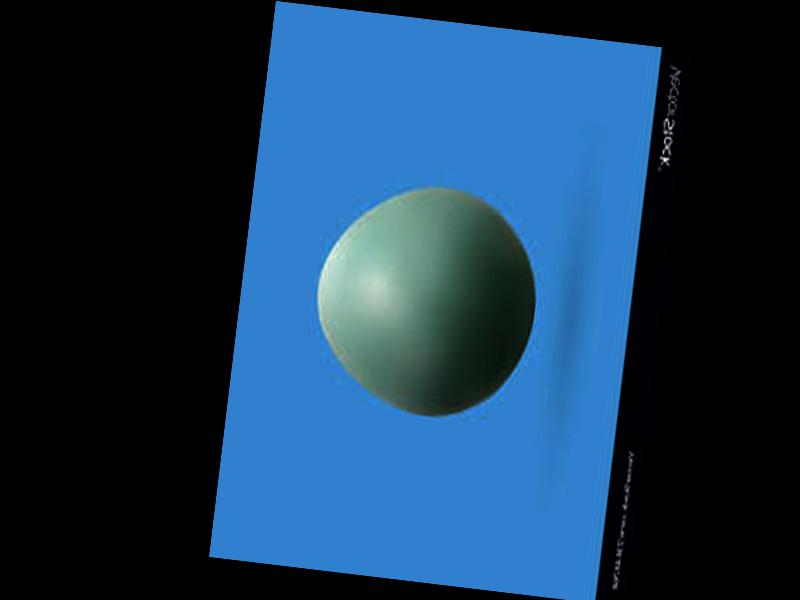Eggs: (304, 175, 546, 430)
